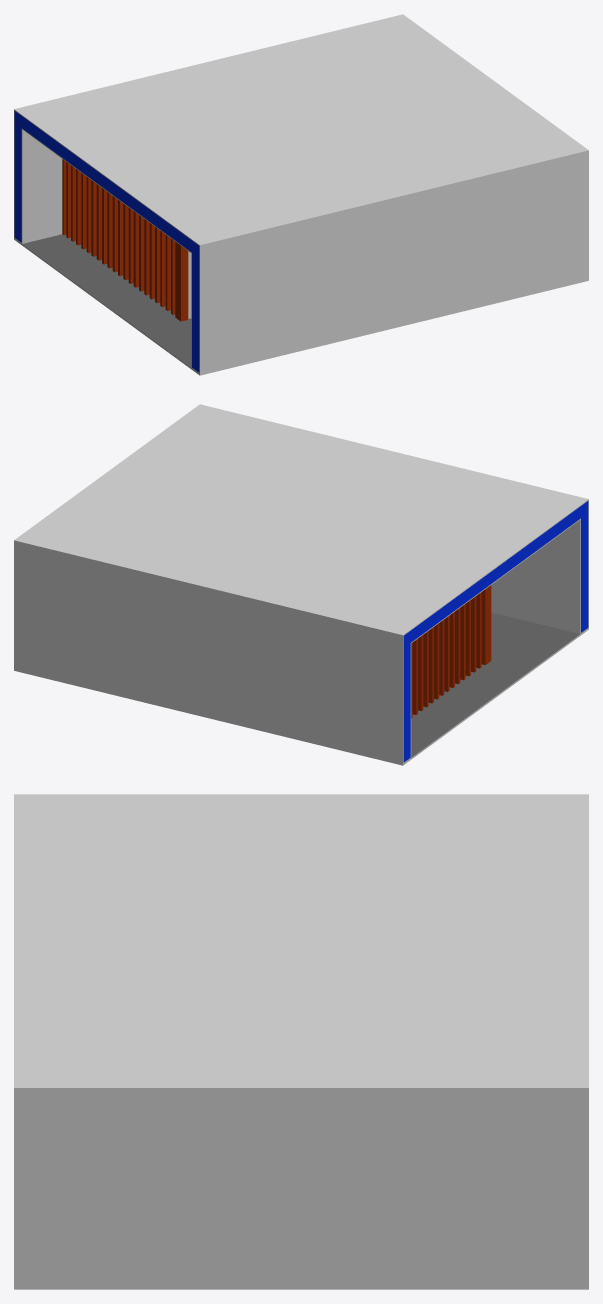
The model's file is CND_Room01.fbx.
3 views of the same model, one above another, from view 1: azimuth 30°, elevation 25°; view 2: azimuth 150°, elevation 25°; view 3: azimuth 270°, elevation 25° (orthographic). The views are drawn at different scales.
Parts seen in each view (by area): view 1: CND_Room01; view 2: CND_Room01; view 3: CND_Room01.
Boxes of the visible parts, x1,y1,x2,y2 form: CND_Room01: (14,14,588,375); CND_Room01: (14,404,588,765); CND_Room01: (14,794,588,1289).
Size of the model in its own units: 9719 by 3115 by 8044.
